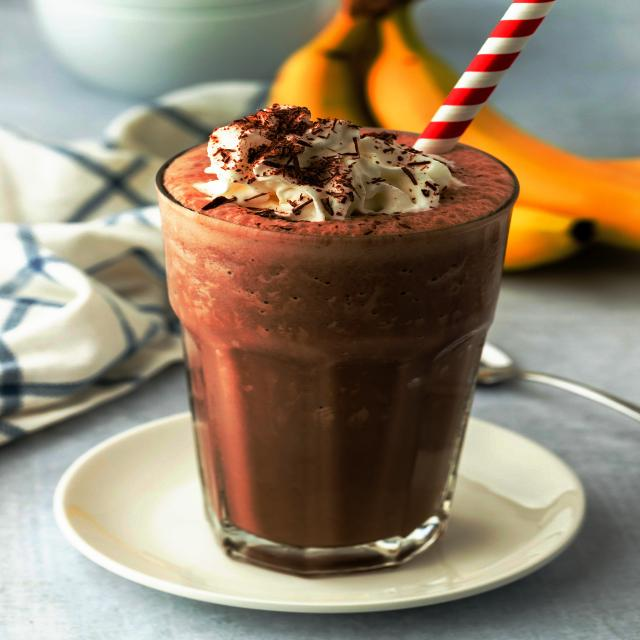drink: (161, 111, 519, 574)
